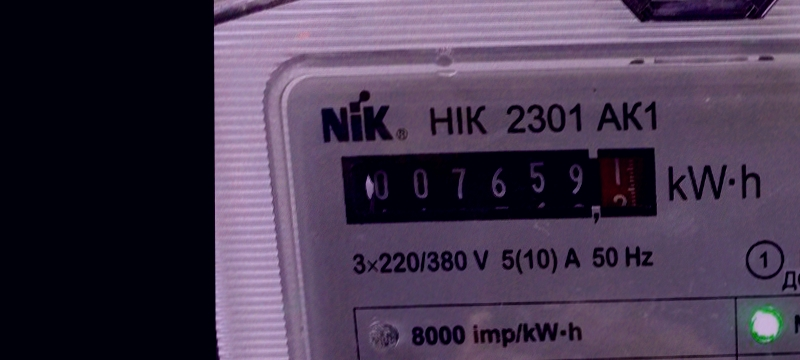0: (409, 164, 432, 201), (370, 164, 391, 204)
1: (608, 152, 625, 188)
5: (526, 158, 547, 195)
6: (487, 163, 509, 199)
7: (447, 163, 468, 201)
9: (565, 159, 586, 197)
screen: (331, 141, 666, 232)
